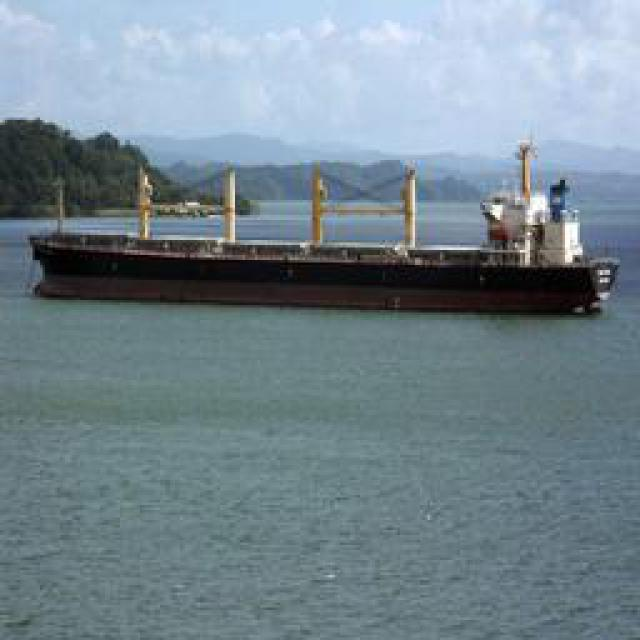Ship: (27, 216, 620, 316)
